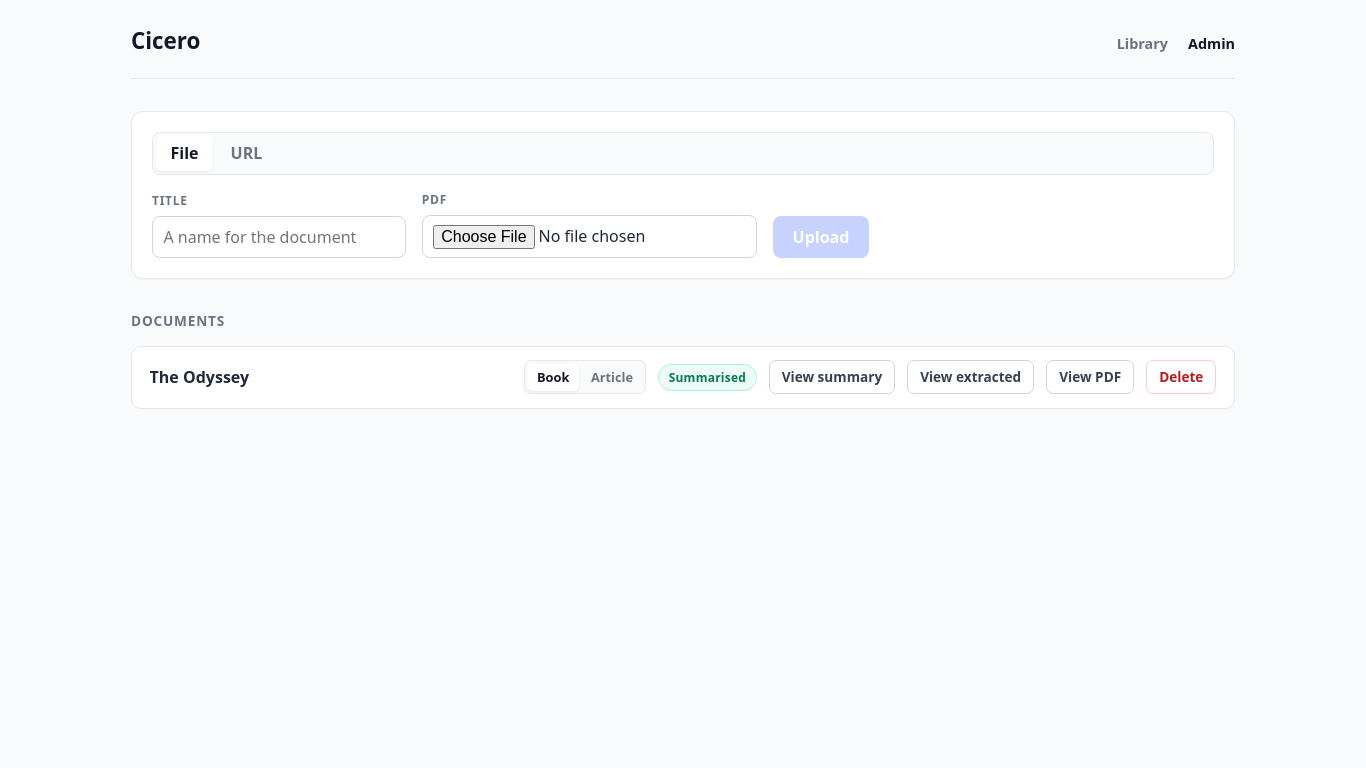
AdminPage › summarises a document again from the summary it is showing
The image size is (1366, 768).
Check: the text "The Odyssey" is shown, box [150,366,249,388]
Click the button "View summary".
click(832, 377)  # box [769,360,895,394]
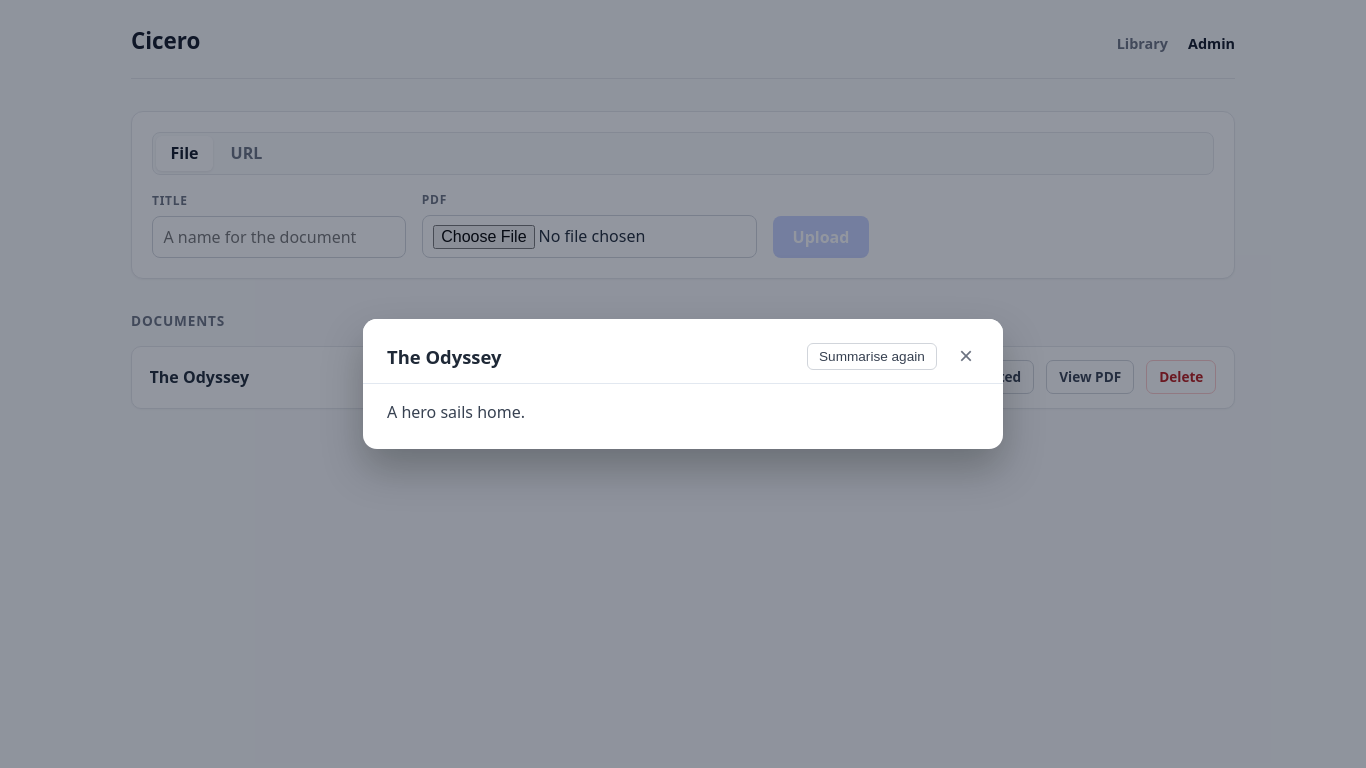
Check: the text "A hero sails home." is shown, box [387,400,525,422]
Click the button "Summarise again".
click(872, 356)  # box [807,343,937,370]
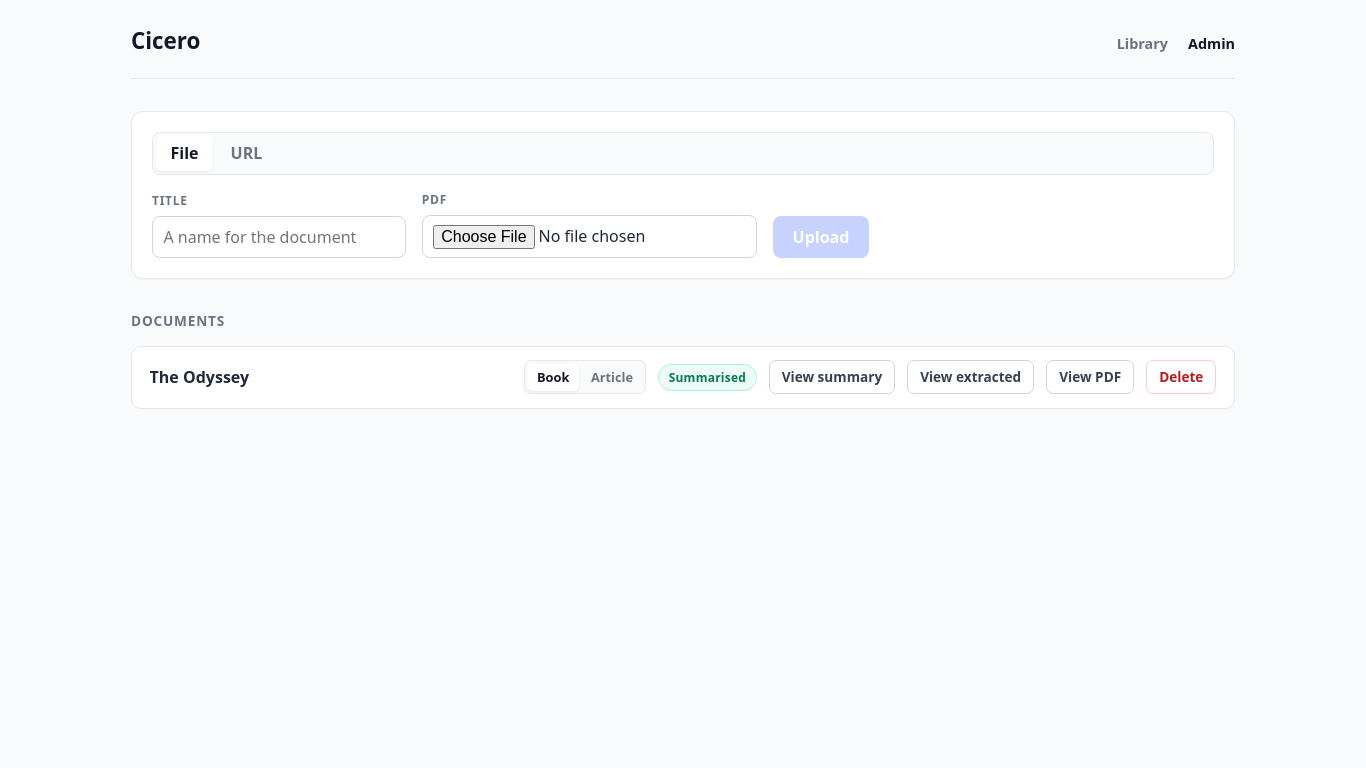
Check: the text "A hero sails home." is gone
